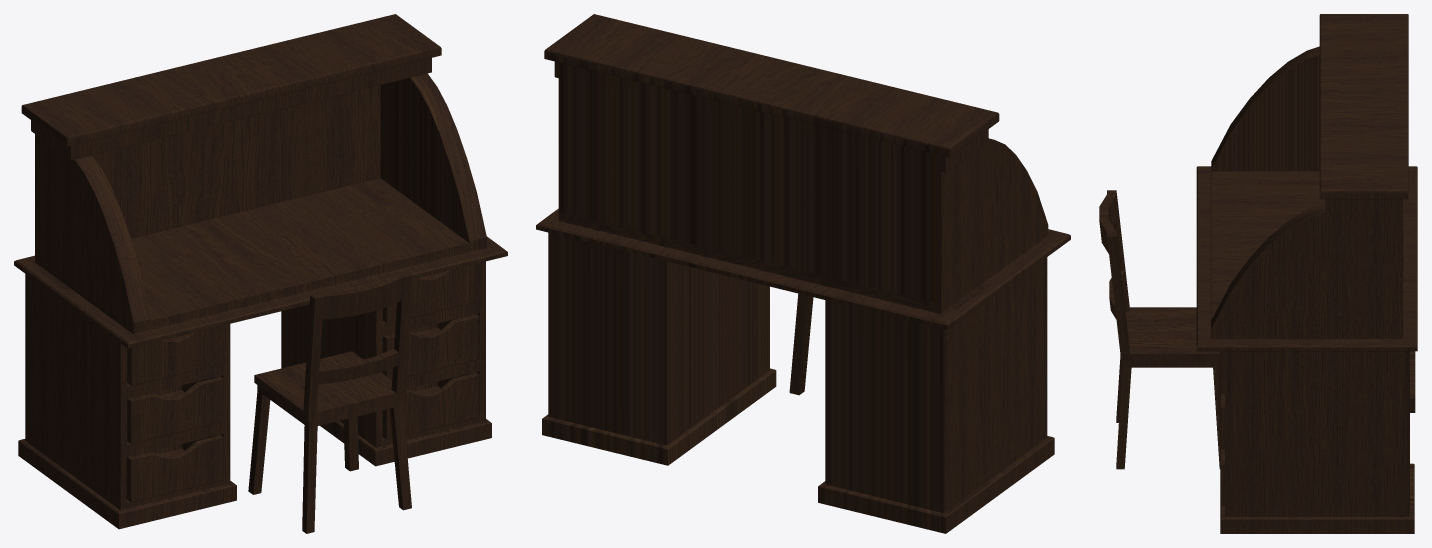
File: desk 1.fbx
3 views of the same model, side by side, from view 1: azimuth 30°, elevation 25°; view 2: azimuth 150°, elevation 25°; view 3: azimuth 270°, elevation 25° (orthographic). The views are drawn at different scales.
Parts seen in each view (by area): view 1: desk, chair, drawerL3, drawerL2, drawerL1, drawerR3, drawerR2, drawerR1; view 2: desk, chair; view 3: desk, chair.
Boxes of the visible parts, x1,y1,x2,y2 form: desk: (14,14,507,529); chair: (248,271,412,533); drawerL3: (126,434,223,502); drawerL2: (127,376,223,444); drawerL1: (127,325,225,385); drawerR3: (382,372,479,440); drawerR2: (382,314,479,379); drawerR1: (382,262,480,323); desk: (536,14,1070,533); chair: (789,293,813,395); desk: (1196,14,1417,533); chair: (1099,190,1220,469).
Size of the model in its own units: 167 by 148 by 125.
1 material, 1 textured.
